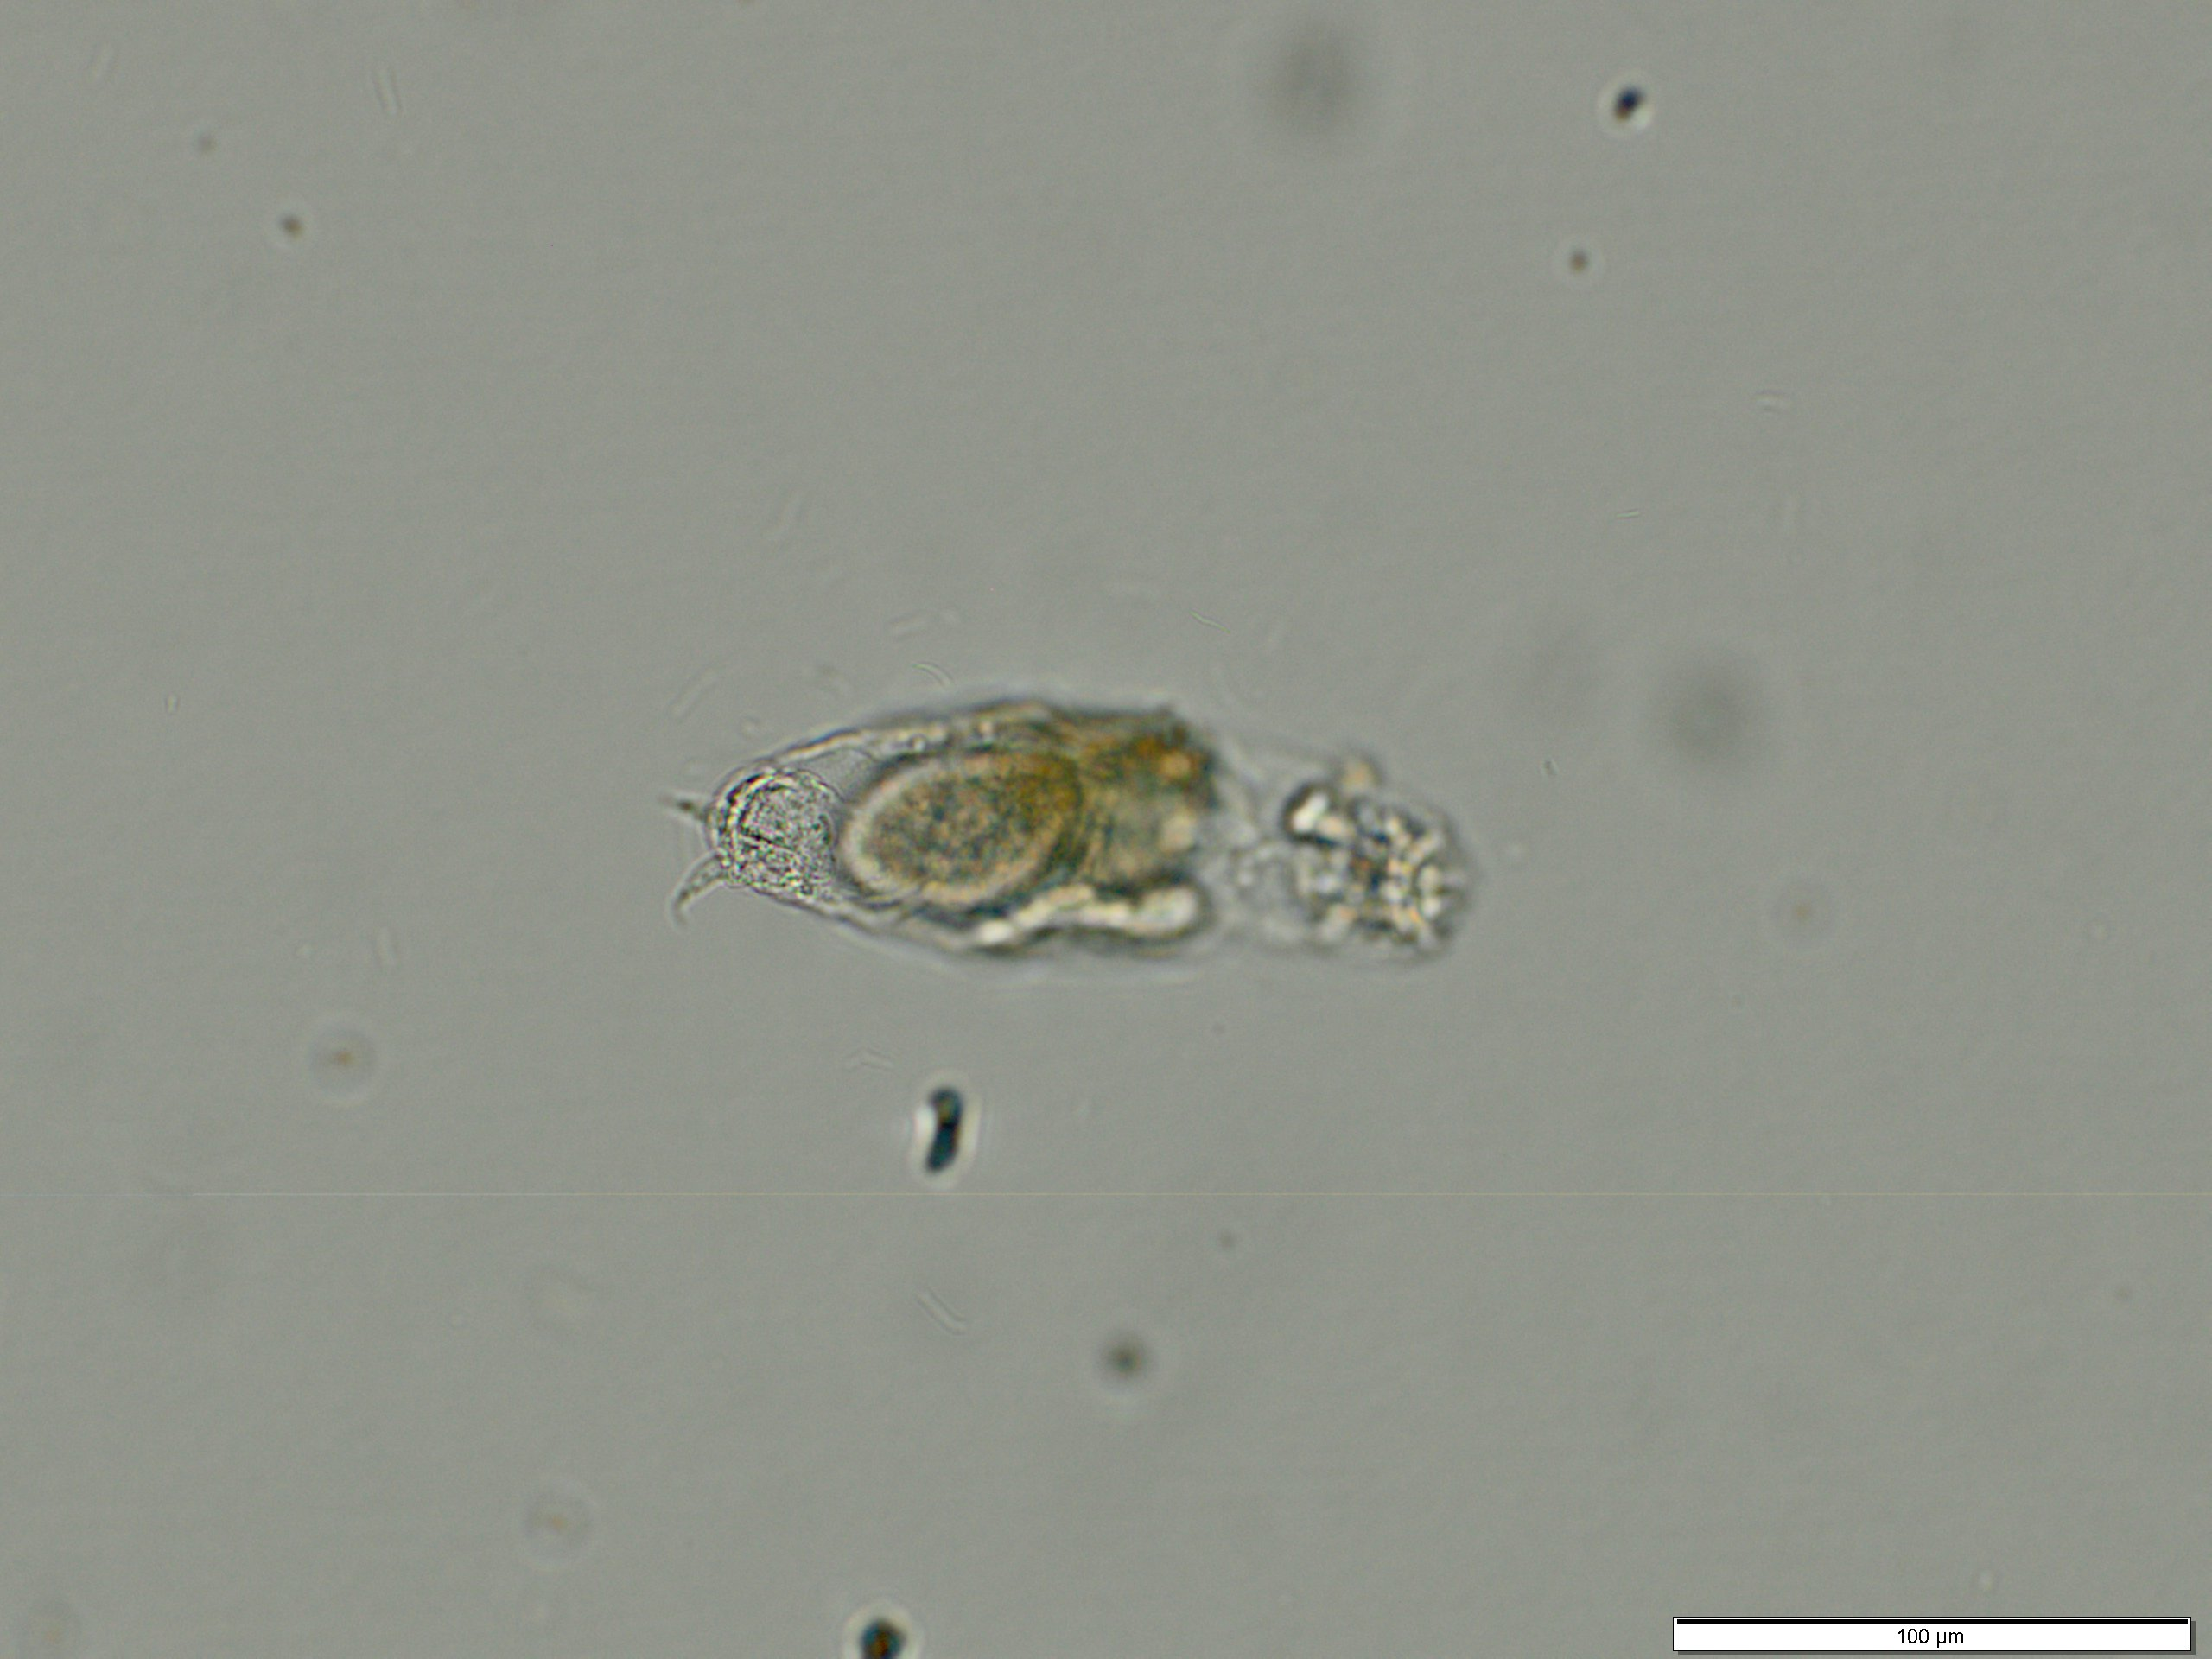rotifer: (651, 692, 1491, 981)
